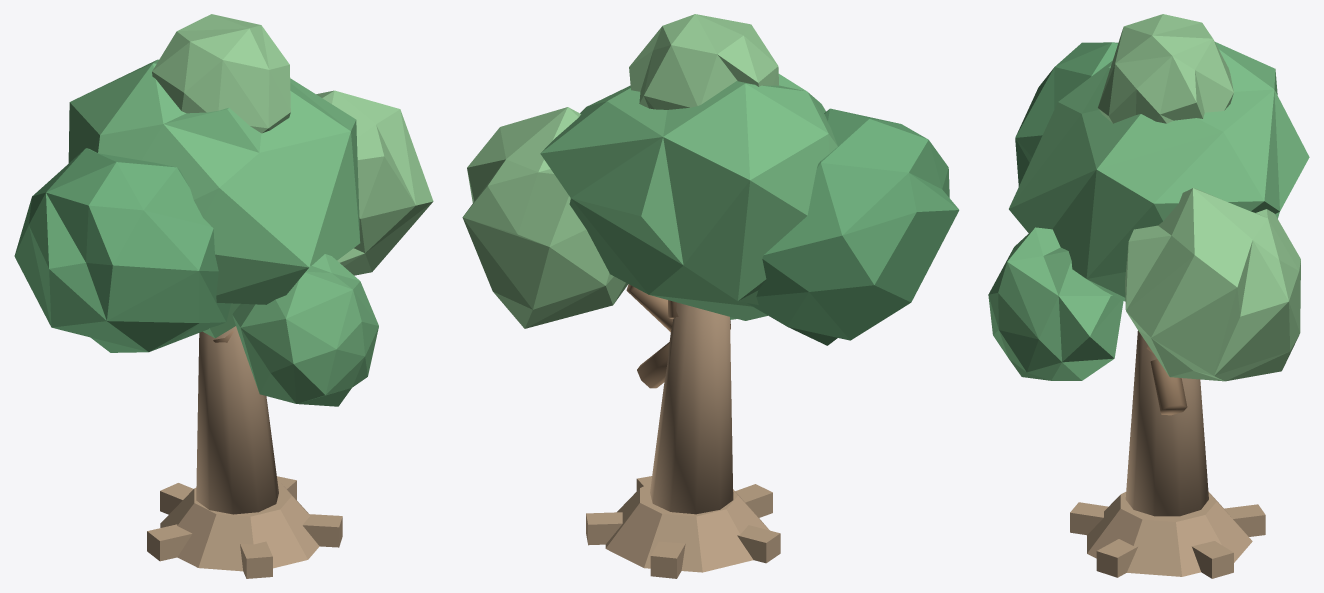
Rendered from Tree_A_03_LOD2.glb.
The picture shows the model from 3 angles, left to right: view 1: azimuth 30°, elevation 25°; view 2: azimuth 150°, elevation 25°; view 3: azimuth 270°, elevation 25°; orthographic projection. The views are drawn at different scales.
Visible parts, largest first — view 1: BW_TreeA_V03_Canopy_01_LOD2, BW_TreeA_V03_Canopy_02_LOD2, BW_TreeA_V03_Canopy_05_LOD2, BW_TreeA_V03_Trunk_LOD2, BW_TreeA_V03_Roots_LOD2, BW_TreeA_V03_Canopy_04_LOD2, BW_TreeA_V03_Canopy_03_LOD2; view 2: BW_TreeA_V03_Canopy_01_LOD2, BW_TreeA_V03_Canopy_02_LOD2, BW_TreeA_V03_Canopy_03_LOD2, BW_TreeA_V03_Trunk_LOD2, BW_TreeA_V03_Roots_LOD2, BW_TreeA_V03_Canopy_04_LOD2, BW_TreeA_V03_Branches_LOD2; view 3: BW_TreeA_V03_Canopy_01_LOD2, BW_TreeA_V03_Canopy_03_LOD2, BW_TreeA_V03_Canopy_05_LOD2, BW_TreeA_V03_Roots_LOD2, BW_TreeA_V03_Canopy_04_LOD2, BW_TreeA_V03_Trunk_LOD2, BW_TreeA_V03_Canopy_02_LOD2, BW_TreeA_V03_Branches_LOD2.
Boxes of the visible parts, <box> form: BW_TreeA_V03_Canopy_01_LOD2: <box>68,59,360,338</box>; BW_TreeA_V03_Canopy_02_LOD2: <box>14,148,230,352</box>; BW_TreeA_V03_Canopy_05_LOD2: <box>232,254,378,406</box>; BW_TreeA_V03_Trunk_LOD2: <box>196,326,278,514</box>; BW_TreeA_V03_Roots_LOD2: <box>147,476,342,578</box>; BW_TreeA_V03_Canopy_04_LOD2: <box>152,14,290,133</box>; BW_TreeA_V03_Canopy_03_LOD2: <box>316,90,433,275</box>; BW_TreeA_V03_Canopy_01_LOD2: <box>540,74,837,320</box>; BW_TreeA_V03_Canopy_02_LOD2: <box>747,108,959,345</box>; BW_TreeA_V03_Canopy_03_LOD2: <box>462,107,628,328</box>; BW_TreeA_V03_Trunk_LOD2: <box>650,302,733,514</box>; BW_TreeA_V03_Roots_LOD2: <box>586,476,780,578</box>; BW_TreeA_V03_Canopy_04_LOD2: <box>629,14,778,109</box>; BW_TreeA_V03_Branches_LOD2: <box>626,284,730,388</box>; BW_TreeA_V03_Canopy_01_LOD2: <box>1009,42,1309,301</box>; BW_TreeA_V03_Canopy_03_LOD2: <box>1125,188,1300,381</box>; BW_TreeA_V03_Canopy_05_LOD2: <box>988,227,1123,380</box>; BW_TreeA_V03_Roots_LOD2: <box>1070,491,1265,578</box>; BW_TreeA_V03_Canopy_04_LOD2: <box>1098,14,1233,123</box>; BW_TreeA_V03_Trunk_LOD2: <box>1125,330,1208,516</box>; BW_TreeA_V03_Canopy_02_LOD2: <box>1015,42,1118,186</box>; BW_TreeA_V03_Branches_LOD2: <box>1146,345,1187,415</box>.
Bounding box in the file's own units: 4.28 × 5.06 × 2.91.
